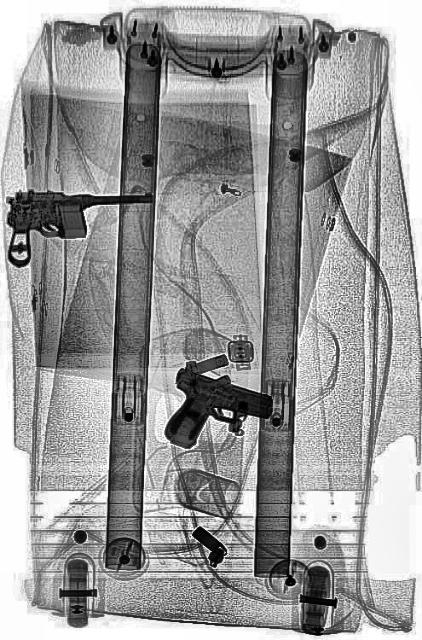Gun: (4, 188, 152, 270), (162, 364, 274, 472)
